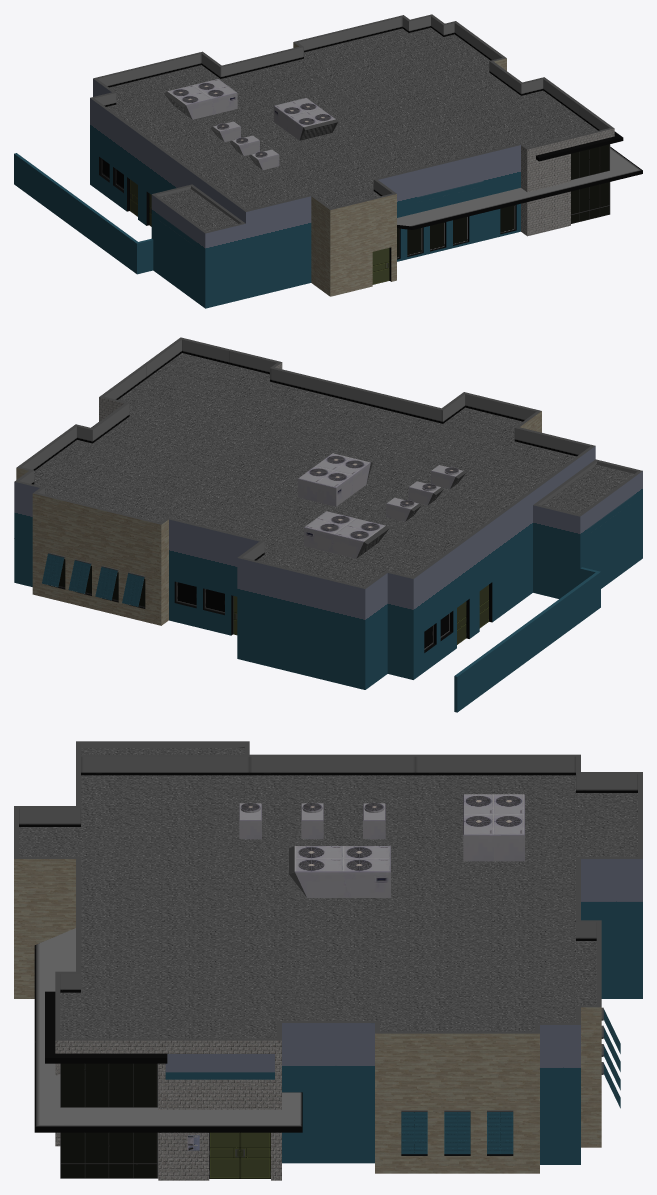
3 views of the same model, one above another, from view 1: azimuth 30°, elevation 25°; view 2: azimuth 150°, elevation 25°; view 3: azimuth 270°, elevation 25° (orthographic). The views are drawn at different scales.
Parts seen in each view (by area): view 1: export SF; view 2: export SF; view 3: export SF.
Boxes of the visible parts, x1=… form: export SF: x1=14, y1=14, x2=642, y2=308; export SF: x1=14, y1=337, x2=642, y2=712; export SF: x1=14, y1=741, x2=642, y2=1180.
Size of the model in its own units: 400 by 79.09 by 305.
Materials: 1 (1 with a texture image).
